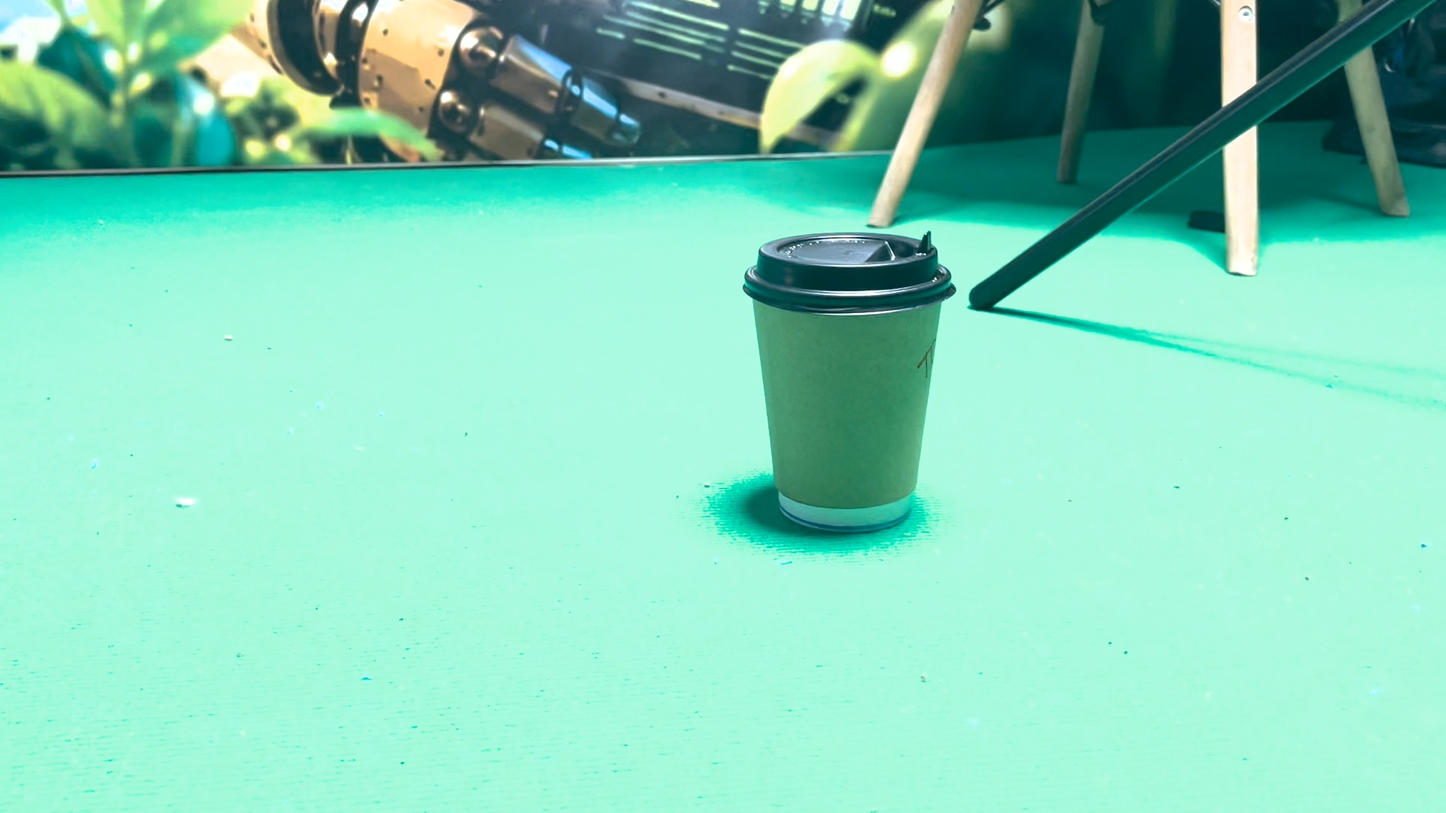cup: (737, 458, 832, 583)
